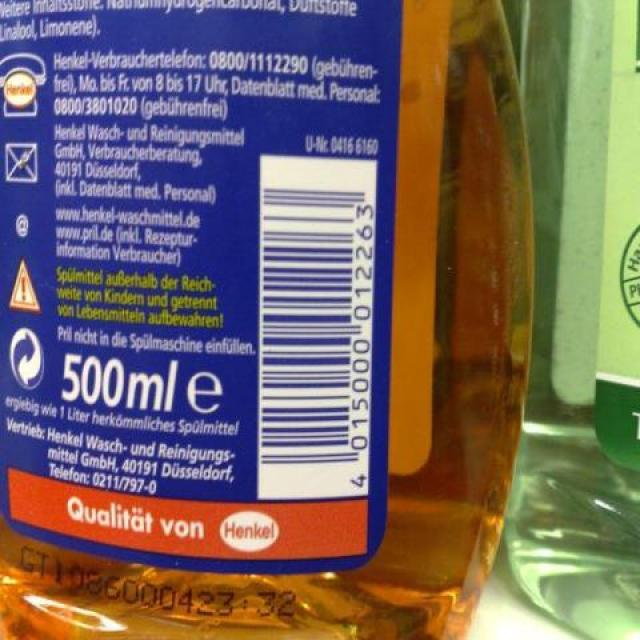Barcode: (258, 155, 378, 500)
